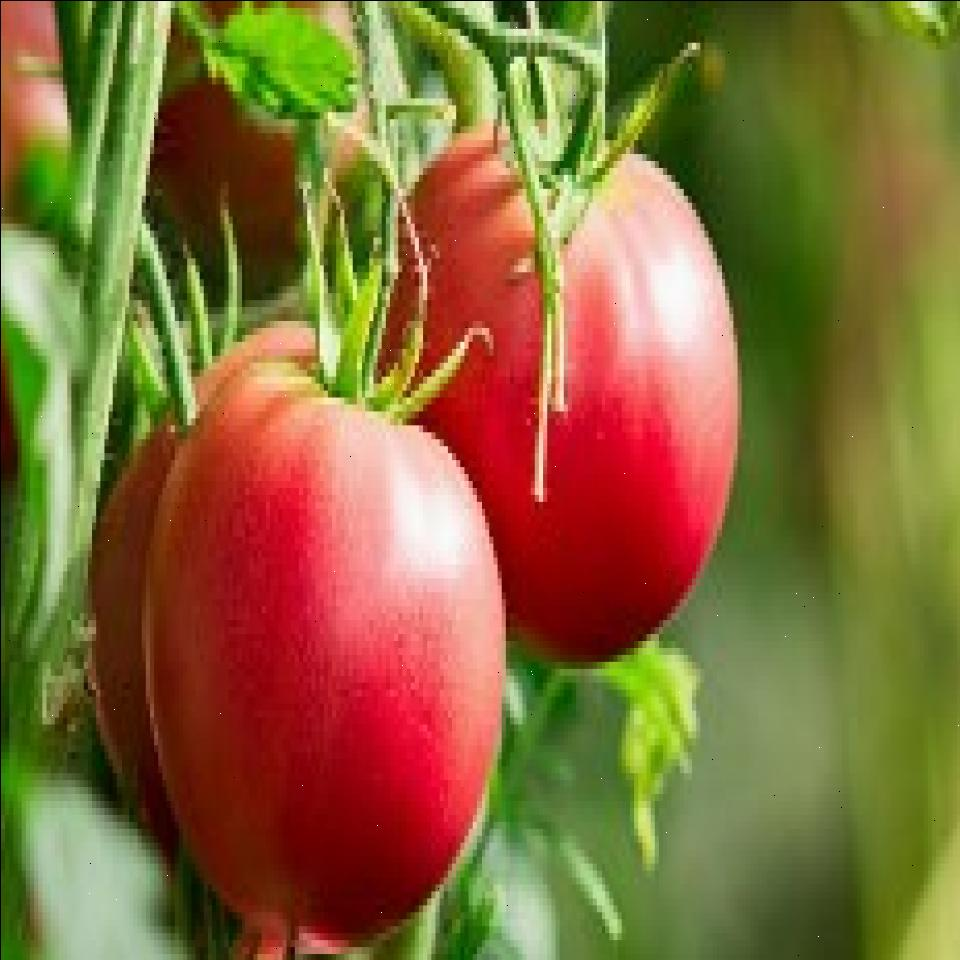Healthy: (391, 118, 740, 674), (145, 378, 493, 930)
